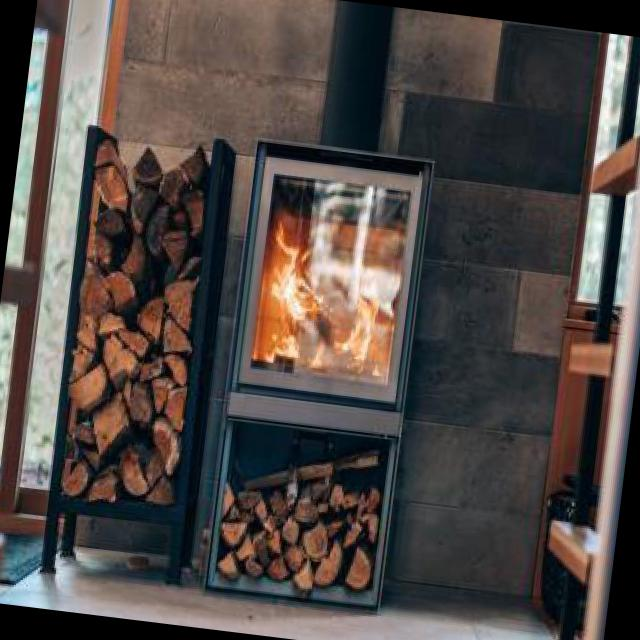Smoke: (252, 214, 403, 378)
